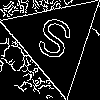S: (30, 15, 76, 70)
